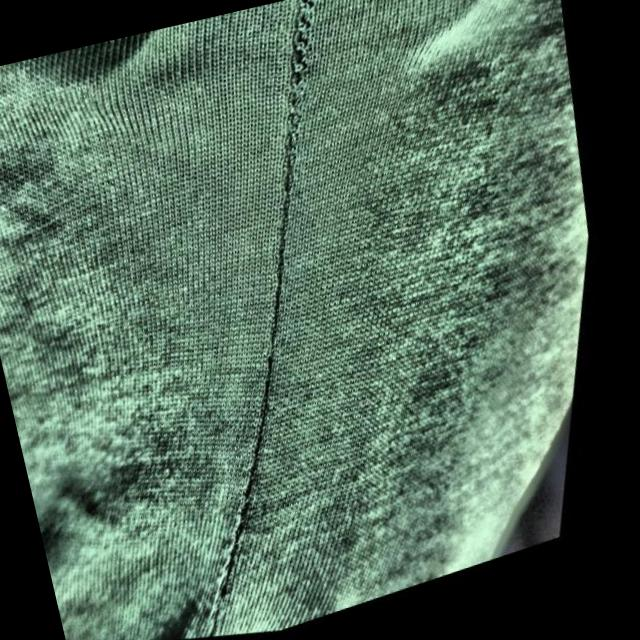seam: (71, 0, 455, 640)
